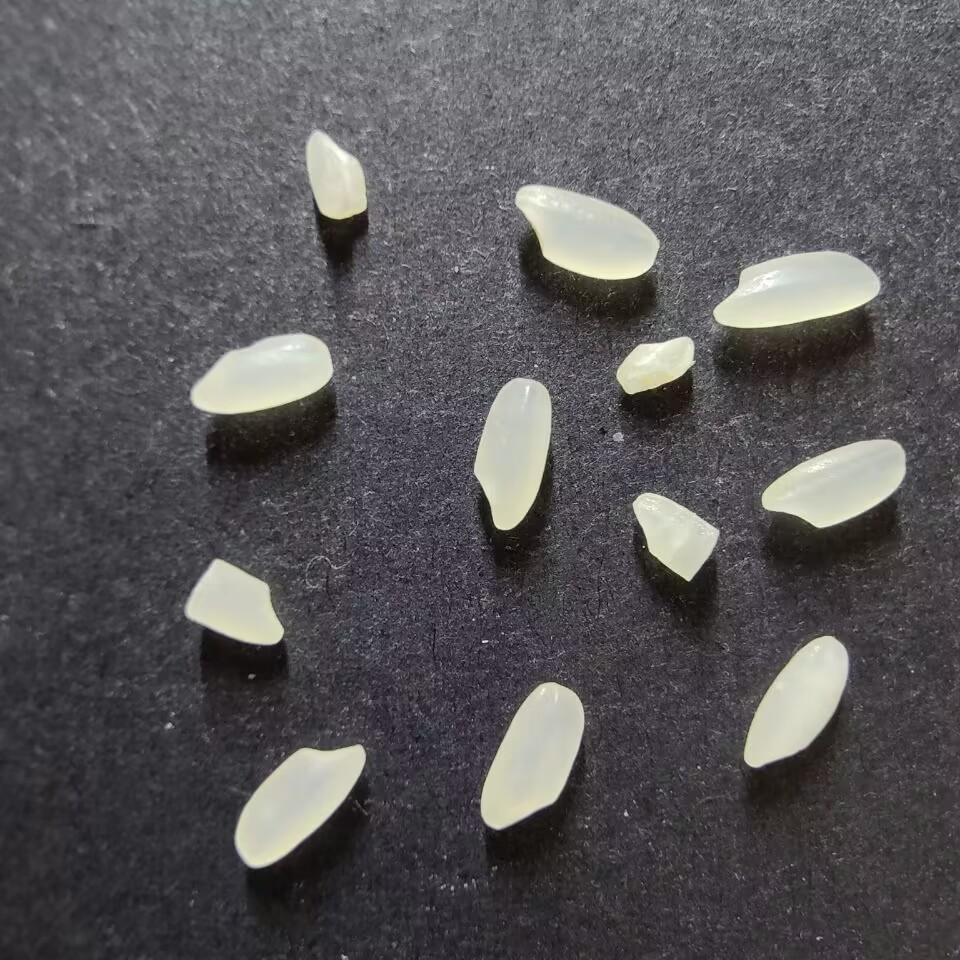broken: (183, 557, 284, 646), (632, 491, 721, 584), (304, 128, 368, 220), (615, 335, 694, 395)
rice: (233, 741, 367, 869), (480, 680, 585, 831), (742, 635, 849, 768), (514, 184, 659, 281), (760, 438, 907, 530), (712, 250, 881, 329), (472, 377, 552, 531), (189, 333, 333, 415)
